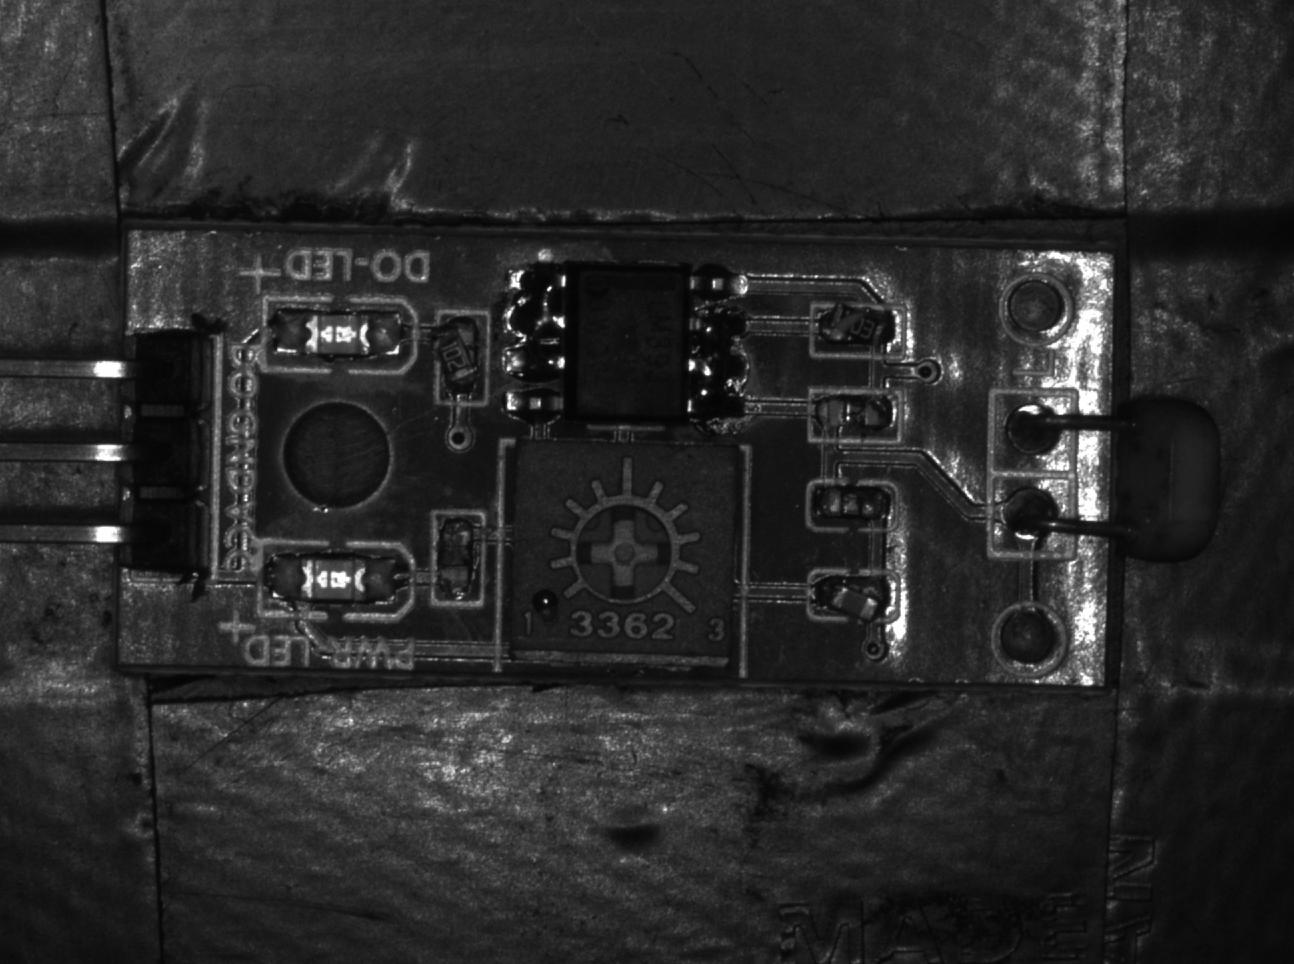bridge: (505, 261, 567, 380), (688, 308, 748, 420)
lifted: (808, 303, 908, 360), (432, 309, 488, 408), (808, 570, 900, 621)
miss: (811, 388, 901, 441), (808, 478, 896, 533), (432, 509, 482, 605)
